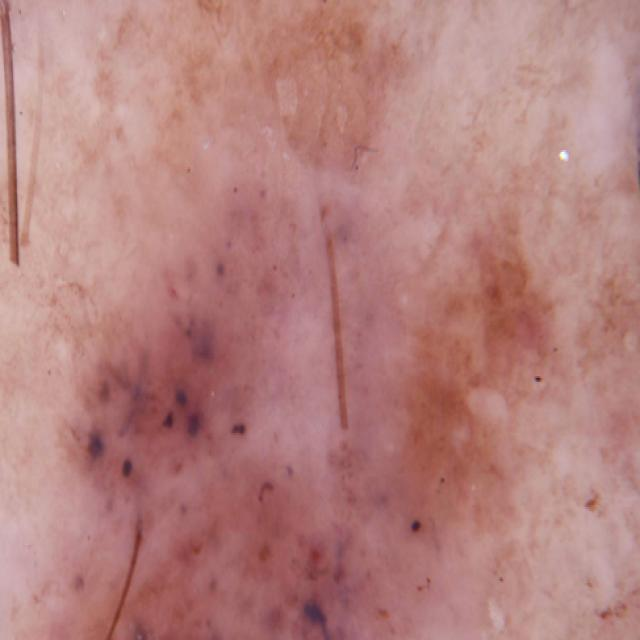Carcinoma: (39, 152, 573, 640)
